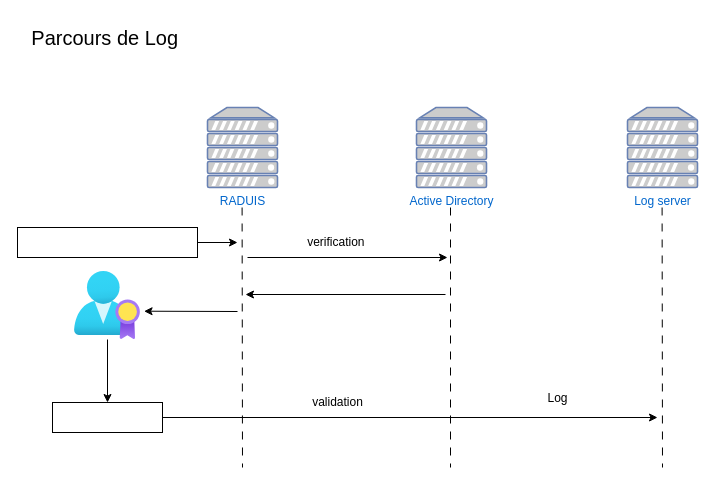
The diagram is 716 pixels wide and 486 high, and some of its shapes have lost their labels. The centre of each missing label's shape, as x and y in pixels:
Action utilisateur: point (107, 417)
Ouverture session Windows: point (107, 242)
